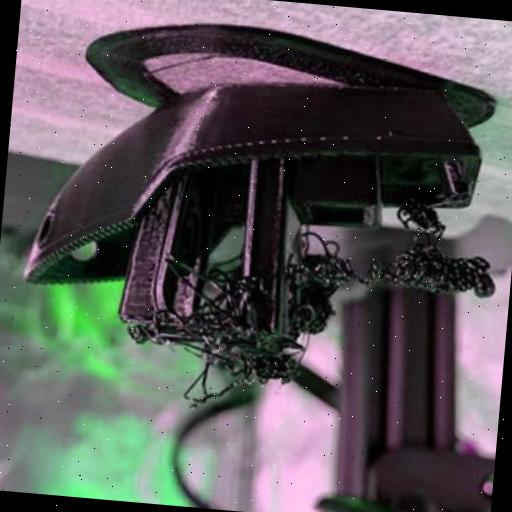spaghetti: (122, 218, 368, 428), (364, 200, 504, 306)
